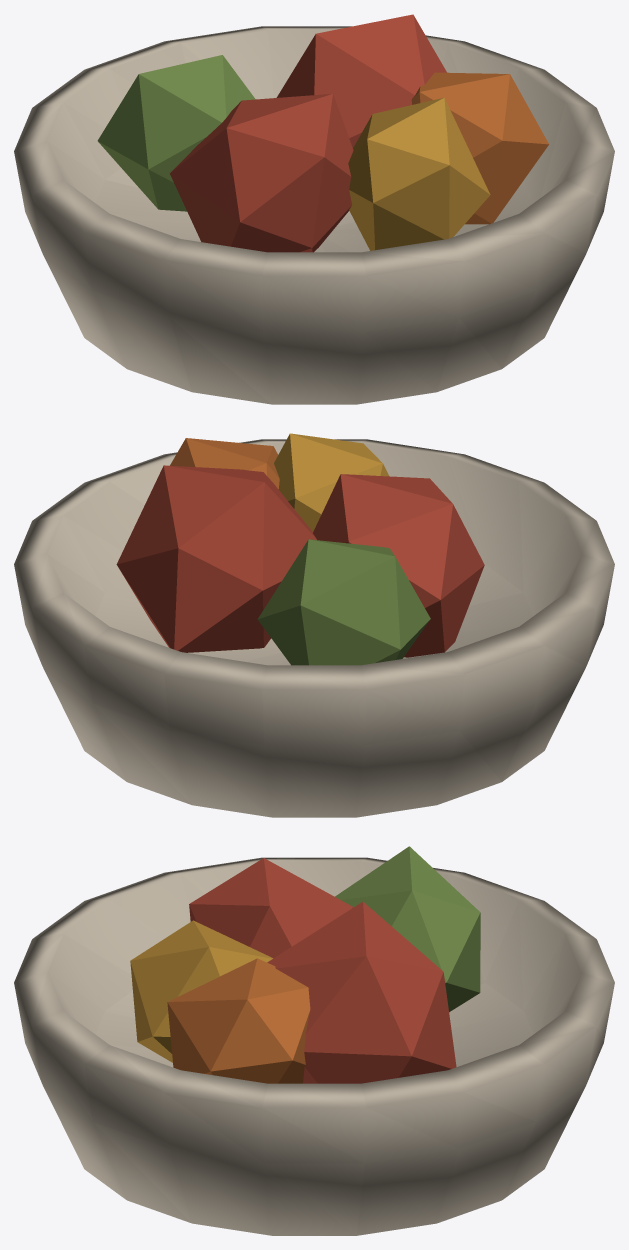
Rendered from fruit_bowl.glb.
The picture shows the model from 3 angles, top to bottom: view 1: azimuth 30°, elevation 25°; view 2: azimuth 150°, elevation 25°; view 3: azimuth 270°, elevation 25°; orthographic projection.
Parts seen in each view (by area): view 1: fruit_bowl; view 2: fruit_bowl; view 3: fruit_bowl.
Boxes of the visible parts, left/top/right/bottom form: fruit_bowl: left=14, top=14, right=614, bottom=404; fruit_bowl: left=14, top=433, right=614, bottom=817; fruit_bowl: left=14, top=846, right=614, bottom=1235.
Bounding box in the file's own units: 0.2659 × 0.1264 × 0.27.
